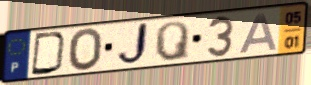3: (205, 14, 236, 59)
A: (237, 11, 279, 55)
D: (29, 30, 69, 77)
J: (115, 20, 151, 68)
O: (67, 26, 105, 74)
Q: (153, 20, 191, 63)
